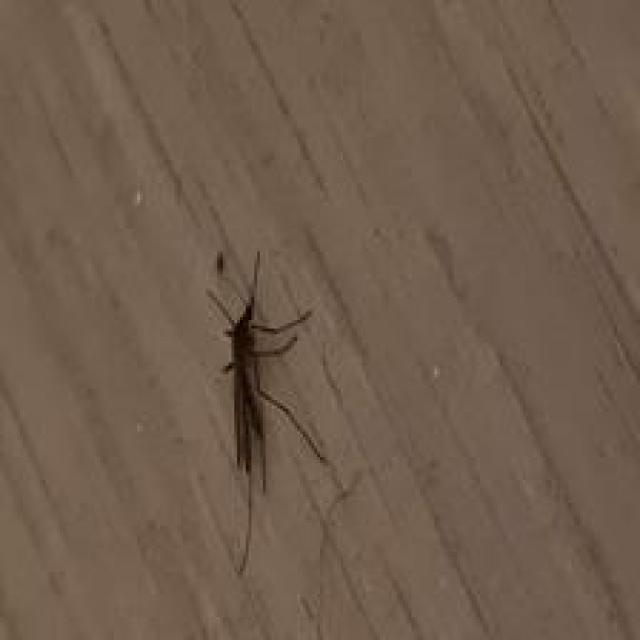Culex: (203, 247, 334, 576)
